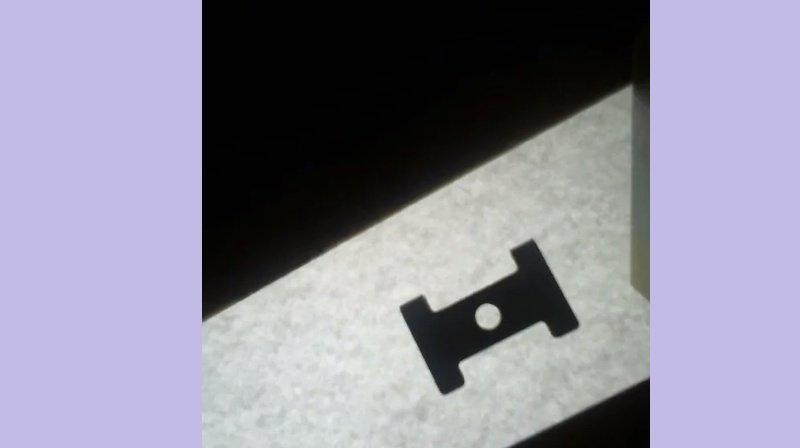O002: (395, 234, 582, 397)
